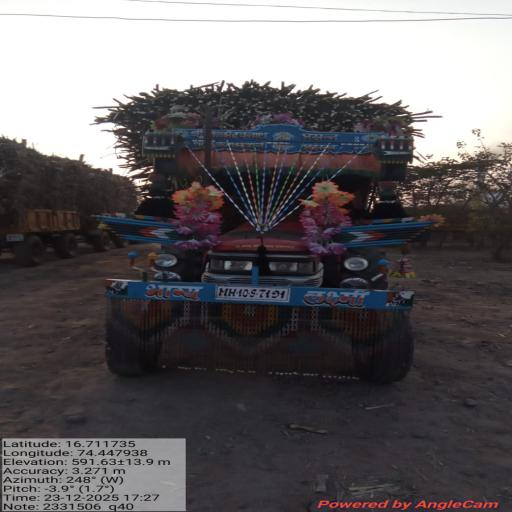number_plate: (208, 286, 298, 305)
